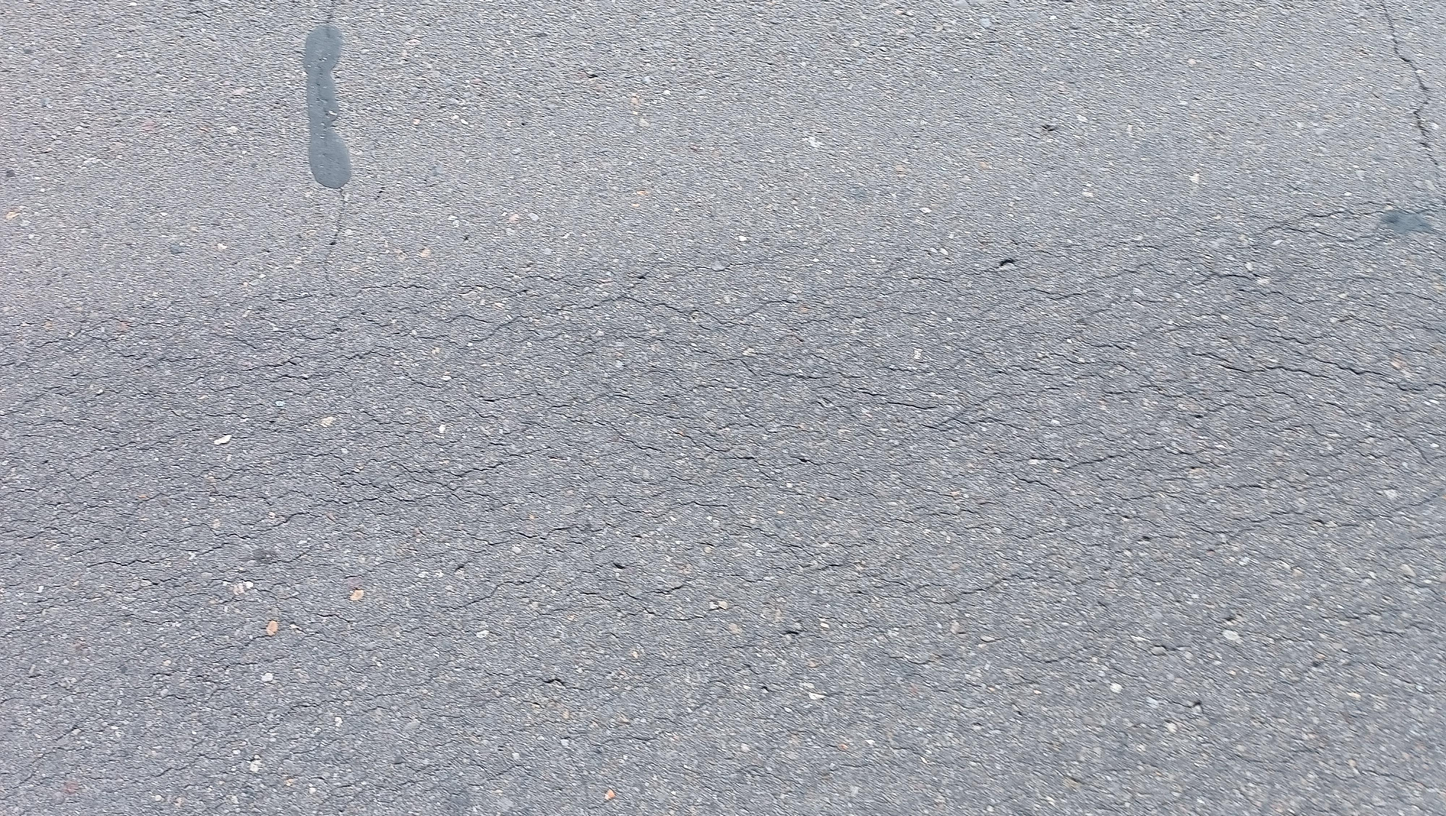GRIETA: (1378, 1, 1444, 186), (320, 186, 349, 286)
PIEL DE COCODRILO: (0, 187, 1446, 816)
